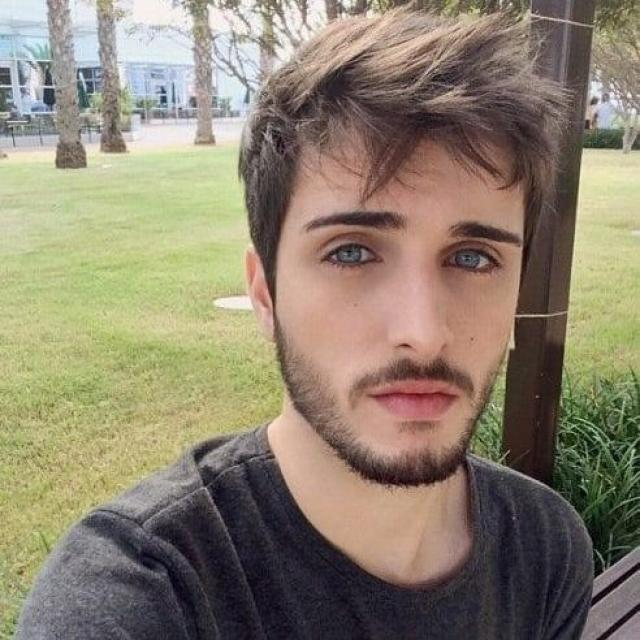earlobe: (244, 244, 278, 342)
